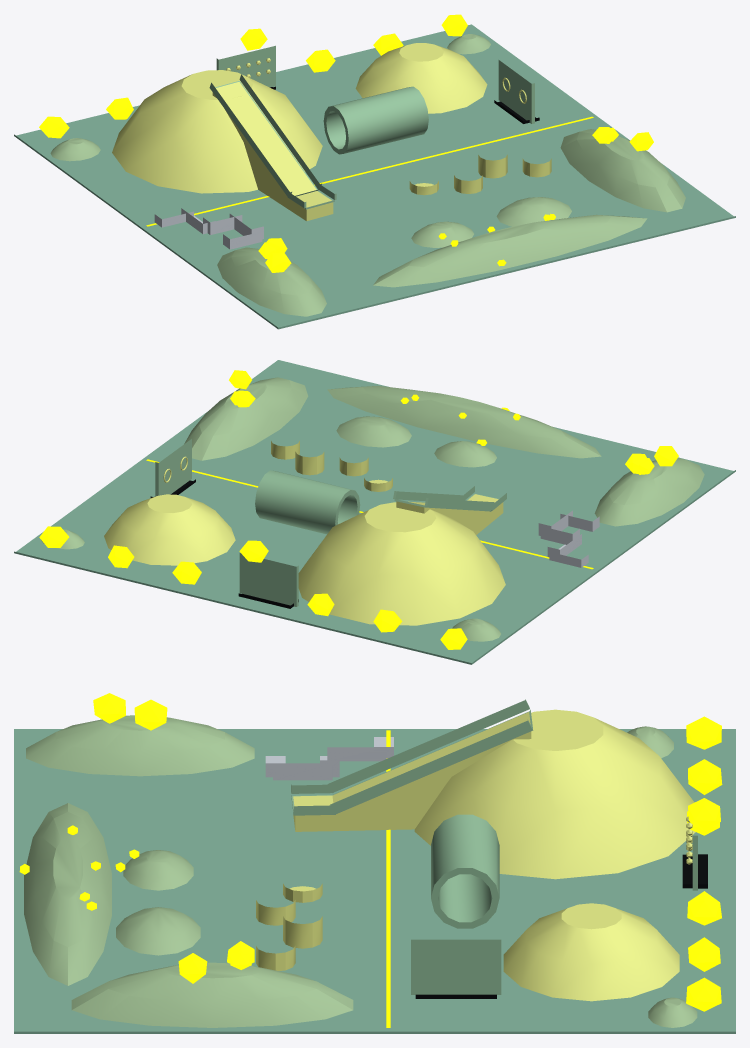
The picture shows the model from 3 angles, top to bottom: view 1: azimuth 30°, elevation 25°; view 2: azimuth 150°, elevation 25°; view 3: azimuth 270°, elevation 25°; orthographic projection. The views are drawn at different scales.
Visible parts, largest first — view 1: Safety_Pad, Ball_Mounds, Terrain, Net_Tunnel, Foliage, Sensory_Panels, Mini_Slide, Court_Line_Path, Ball_Pods, Court_Line; view 2: Safety_Pad, Ball_Mounds, Terrain, Foliage, Net_Tunnel, Sensory_Panels, Court_Line_Path, Ball_Pods, Mini_Slide; view 3: Safety_Pad, Ball_Mounds, Terrain, Foliage, Net_Tunnel, Mini_Slide, Sensory_Panels, Ball_Pods, Court_Line_Path, Panel_Feet, Court_Line.
Part boxes in pixels (x1,y1,x2,y2): Safety_Pad: [14, 24, 735, 329]; Ball_Mounds: [112, 43, 487, 221]; Terrain: [50, 34, 685, 316]; Net_Tunnel: [323, 86, 428, 154]; Foliage: [39, 14, 653, 272]; Sensory_Panels: [216, 45, 534, 123]; Mini_Slide: [209, 74, 336, 209]; Court_Line_Path: [154, 208, 263, 249]; Ball_Pods: [409, 154, 551, 195]; Court_Line: [146, 116, 593, 226]; Safety_Pad: [14, 360, 735, 664]; Ball_Mounds: [104, 494, 505, 625]; Terrain: [41, 377, 704, 641]; Foliage: [39, 370, 678, 649]; Net_Tunnel: [255, 470, 360, 534]; Sensory_Panels: [155, 439, 298, 606]; Court_Line_Path: [538, 510, 599, 567]; Ball_Pods: [271, 441, 392, 491]; Mini_Slide: [393, 486, 506, 511]; Safety_Pad: [14, 729, 735, 1033]; Ball_Mounds: [293, 709, 695, 1001]; Terrain: [24, 715, 697, 1027]; Foliage: [19, 693, 722, 1011]; Net_Tunnel: [431, 814, 499, 928]; Mini_Slide: [291, 699, 533, 815]; Sensory_Panels: [411, 835, 697, 994]; Ball_Pods: [256, 883, 322, 970]; Court_Line_Path: [265, 737, 393, 780]; Panel_Feet: [415, 854, 707, 998]; Court_Line: [386, 730, 390, 1027].
Size of what is drawn, in the model's own units: 8 by 1.35 by 8.
Materials: 7 (2 with a texture image).
